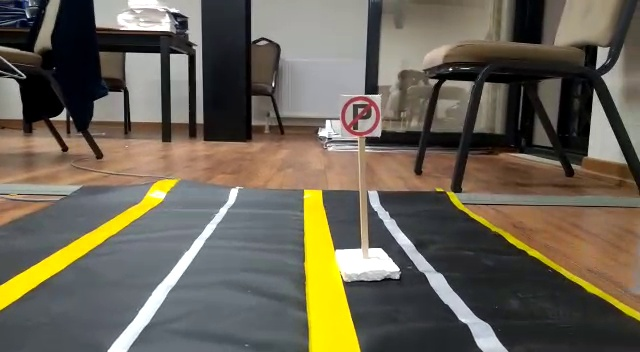park_yapilmaz: (340, 94, 381, 139)
